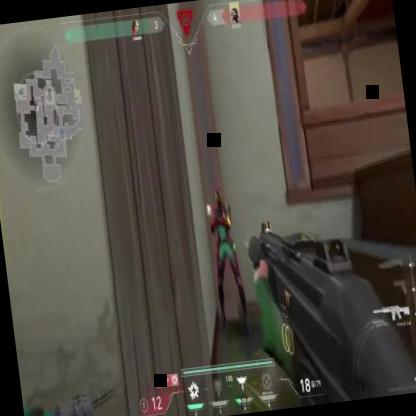enemy: (202, 180, 250, 334)
enemy_head: (212, 184, 223, 206)
